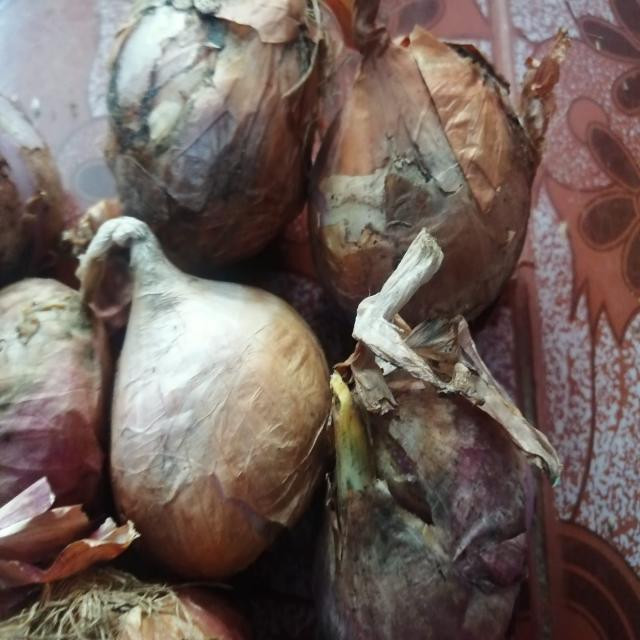rotten: (114, 36, 212, 186), (354, 408, 441, 555), (353, 136, 463, 234)
